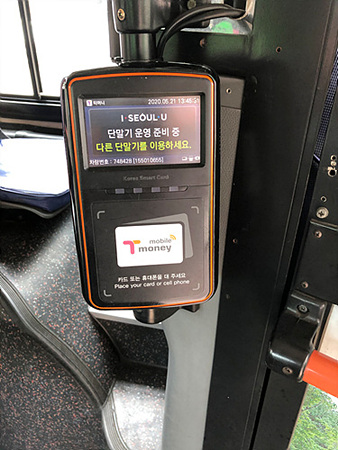terminal: (66, 67, 216, 302)
